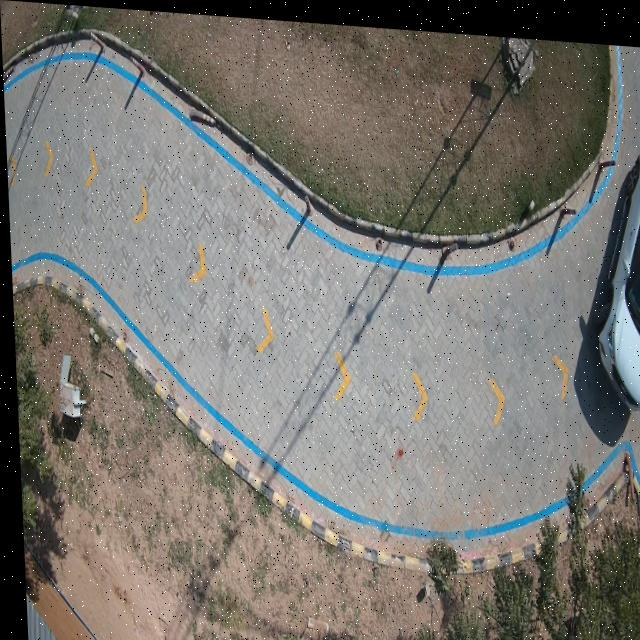car: (587, 143, 640, 401)
